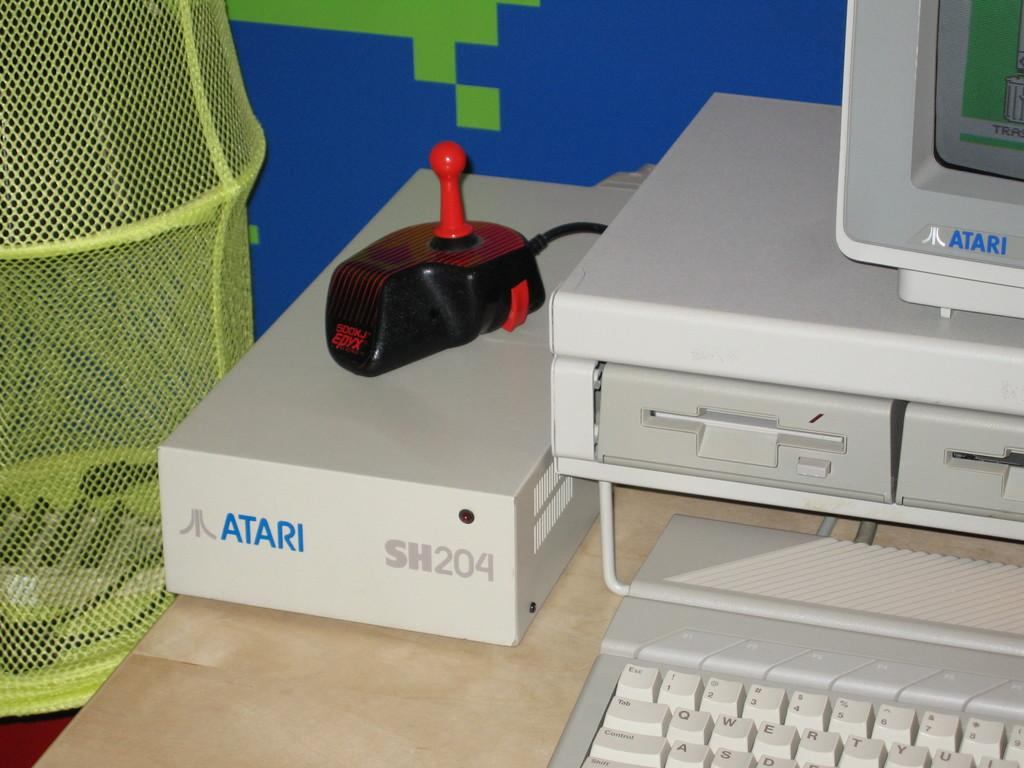Computer-keyboard: (545, 512, 1023, 765)
